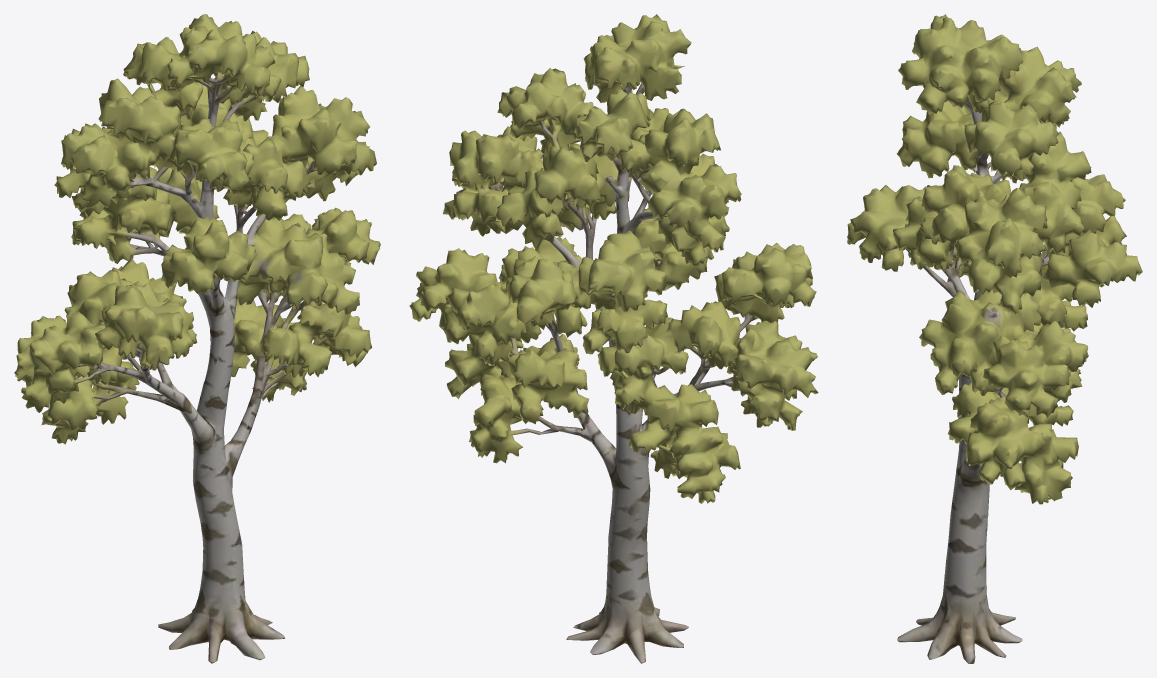
File: nat_tree_birch_v1.glb
The picture shows the model from 3 angles, left to right: view 1: azimuth 30°, elevation 25°; view 2: azimuth 150°, elevation 25°; view 3: azimuth 270°, elevation 25°; orthographic projection.
Visible parts, largest first — view 1: tripo_node_2d9ea7b2-808e-4ddc-b6e5-fc07280964cb; view 2: tripo_node_2d9ea7b2-808e-4ddc-b6e5-fc07280964cb; view 3: tripo_node_2d9ea7b2-808e-4ddc-b6e5-fc07280964cb.
Boxes of the visible parts, x1,y1,x2,y2 form: tripo_node_2d9ea7b2-808e-4ddc-b6e5-fc07280964cb: (14,14,380,663); tripo_node_2d9ea7b2-808e-4ddc-b6e5-fc07280964cb: (409,14,818,663); tripo_node_2d9ea7b2-808e-4ddc-b6e5-fc07280964cb: (847,14,1142,663).
Bounding box in the file's own units: 0.6331 × 0.979 × 0.4279.
Materials: 1 (1 with a texture image).
